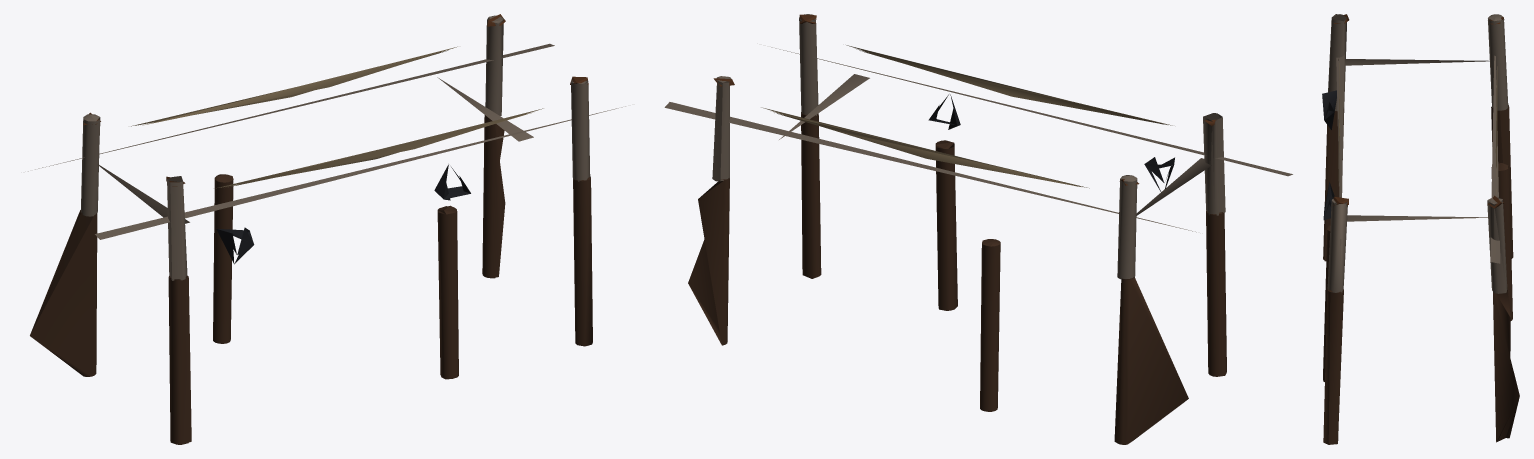
File: SM_Pier_8m.glb
The picture shows the model from 3 angles, left to right: view 1: azimuth 30°, elevation 25°; view 2: azimuth 150°, elevation 25°; view 3: azimuth 270°, elevation 25°; orthographic projection. The views are drawn at different scales.
Visible parts, largest first — view 1: SM_Pier_8m; view 2: SM_Pier_8m; view 3: SM_Pier_8m.
Boxes of the visible parts, bbox=[...] form: SM_Pier_8m: bbox=[28, 14, 625, 444]; SM_Pier_8m: bbox=[664, 14, 1292, 444]; SM_Pier_8m: bbox=[1322, 14, 1519, 444].
Size of the model in its own units: 8 by 3.75 by 2.74.
